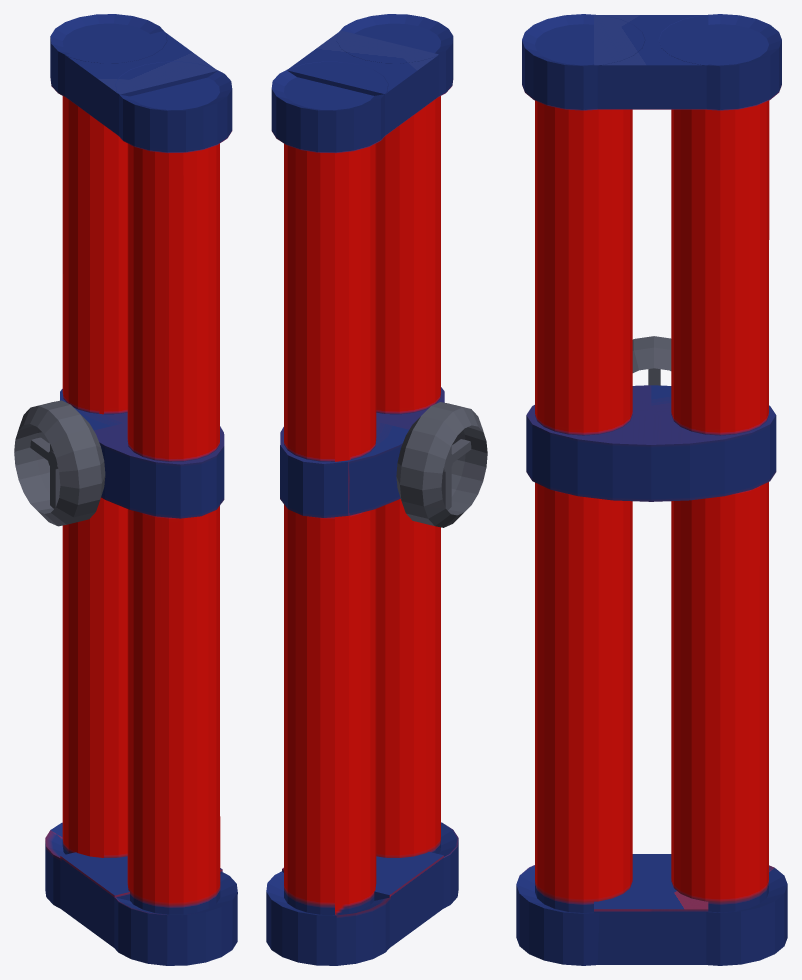
Rendered from Lab Buizen model 4.fbx.
3 views of the same model, side by side, from view 1: azimuth 30°, elevation 25°; view 2: azimuth 150°, elevation 25°; view 3: azimuth 270°, elevation 25° (orthographic). The views are drawn at different scales.
Parts seen in each view (by area): view 1: pCylinder25; view 2: pCylinder25; view 3: pCylinder25.
Boxes of the visible parts, x1=… form: pCylinder25: x1=14, y1=14, x2=237, y2=965; pCylinder25: x1=266, y1=14, x2=487, y2=965; pCylinder25: x1=516, y1=14, x2=787, y2=965.
Size of the model in its own units: 40.23 by 203 by 55.58.
Materials: 1 (1 with a texture image).
